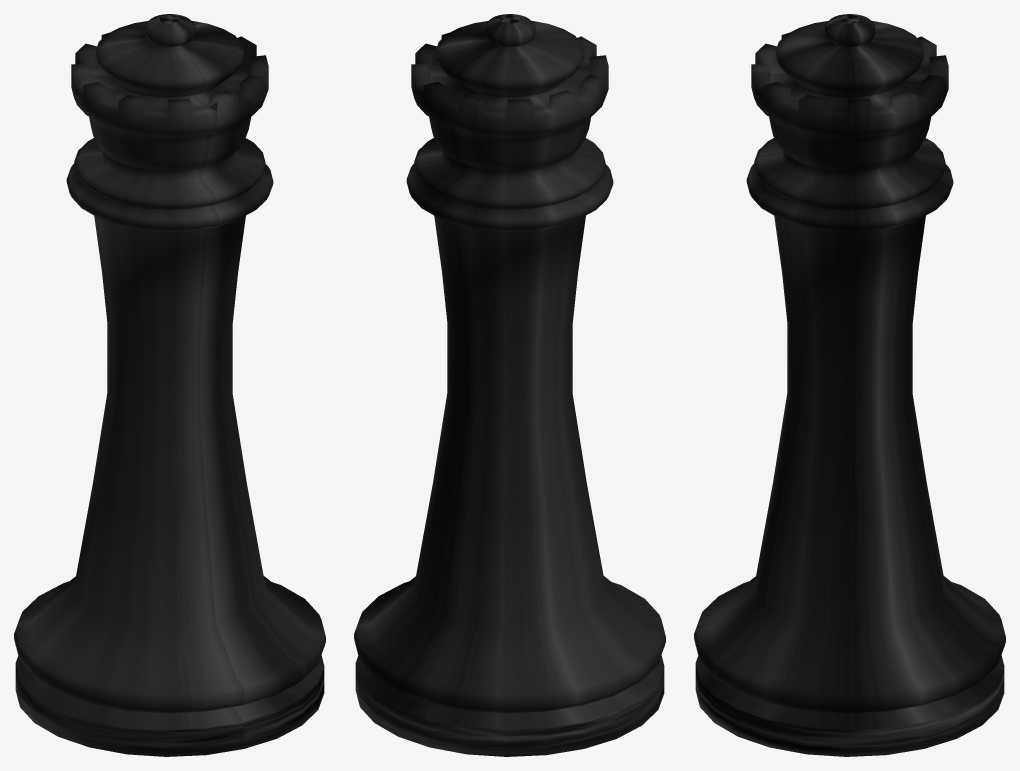
The model's file is black_queen.obj.
The picture shows the model from 3 angles, left to right: view 1: azimuth 30°, elevation 25°; view 2: azimuth 150°, elevation 25°; view 3: azimuth 270°, elevation 25°; orthographic projection.
Visible parts, largest first — view 1: Queen.001_Cylinder.026; view 2: Queen.001_Cylinder.026; view 3: Queen.001_Cylinder.026.
Part boxes in pixels (x1=…): Queen.001_Cylinder.026: x1=14, y1=14, x2=325, y2=756; Queen.001_Cylinder.026: x1=354, y1=14, x2=665, y2=756; Queen.001_Cylinder.026: x1=694, y1=14, x2=1005, y2=756.
Bounding box in the file's own units: 1.51 × 3.6 × 1.51.
